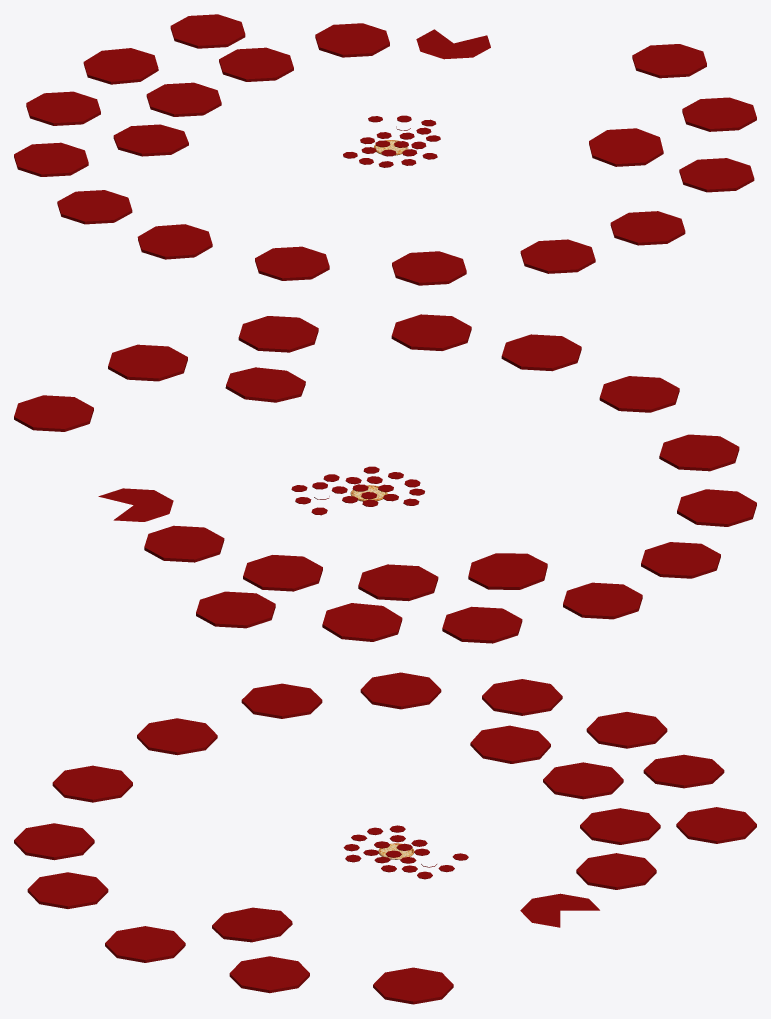
The model's file is Pizza.glb.
3 renders of one model, top to bottom at view 1: azimuth 30°, elevation 25°; view 2: azimuth 150°, elevation 25°; view 3: azimuth 270°, elevation 25°, orthographic. The views are drawn at different scales.
Parts seen in each view (by area): view 1: Node; view 2: Node; view 3: Node.
Part boxes in pixels (x1,y1,x2,y2): Node: (14,14,756,285); Node: (14,314,756,643); Node: (14,672,756,1004).
Bounding box in the file's own units: 4.58 × 0.1122 × 4.37.
2 materials, 1 textured.
